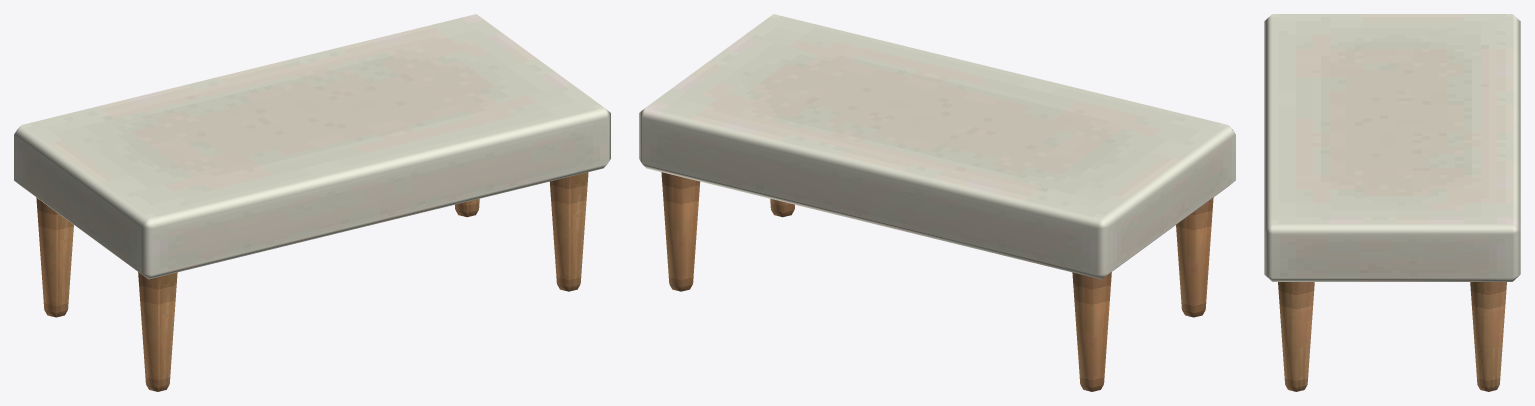
The model's file is rmk_smp_tableM.dae.
The picture shows the model from 3 angles, left to right: view 1: azimuth 30°, elevation 25°; view 2: azimuth 150°, elevation 25°; view 3: azimuth 270°, elevation 25°; orthographic projection. The views are drawn at different scales.
Visible parts, largest first — view 1: rmk_smp_tableM; view 2: rmk_smp_tableM; view 3: rmk_smp_tableM.
Part boxes in pixels (x1=…): rmk_smp_tableM: x1=14, y1=14, x2=610, y2=391; rmk_smp_tableM: x1=639, y1=14, x2=1235, y2=391; rmk_smp_tableM: x1=1264, y1=14, x2=1520, y2=391.
Size of the model in its own units: 56.27 by 21.1 by 28.13.
Materials: 2 (2 with a texture image).
